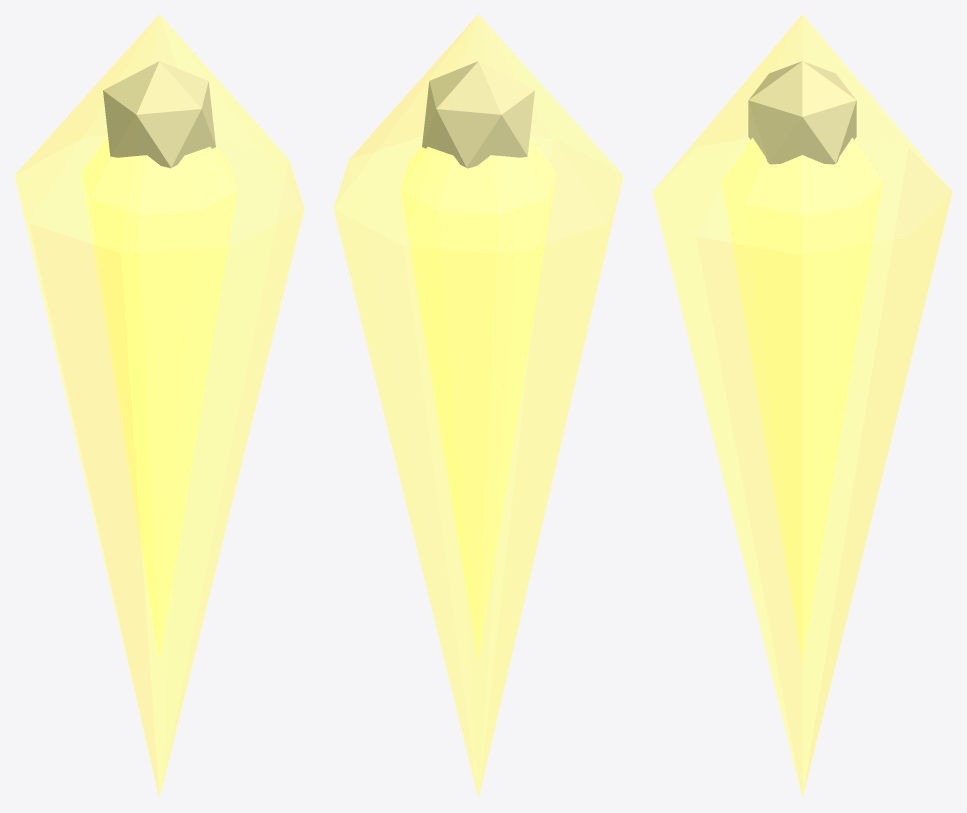
File: PlasmaBolt.fbx
The picture shows the model from 3 angles, left to right: view 1: azimuth 30°, elevation 25°; view 2: azimuth 150°, elevation 25°; view 3: azimuth 270°, elevation 25°; orthographic projection.
Parts seen in each view (by area): view 1: PlasmaBoltGlow, PlasmaBoltCore, PlasmaBoltHotTip; view 2: PlasmaBoltGlow, PlasmaBoltCore, PlasmaBoltHotTip; view 3: PlasmaBoltGlow, PlasmaBoltCore, PlasmaBoltHotTip.
Part boxes in pixels (x1=…): PlasmaBoltGlow: x1=14, y1=14, x2=304, y2=798; PlasmaBoltCore: x1=81, y1=137, x2=237, y2=662; PlasmaBoltHotTip: x1=103, y1=61, x2=215, y2=168; PlasmaBoltGlow: x1=333, y1=14, x2=623, y2=798; PlasmaBoltCore: x1=400, y1=137, x2=556, y2=662; PlasmaBoltHotTip: x1=422, y1=61, x2=534, y2=168; PlasmaBoltGlow: x1=652, y1=14, x2=952, y2=798; PlasmaBoltCore: x1=722, y1=138, x2=882, y2=662; PlasmaBoltHotTip: x1=748, y1=61, x2=856, y2=164.
Size of the model in its own units: 0.26 by 0.75 by 0.26.
